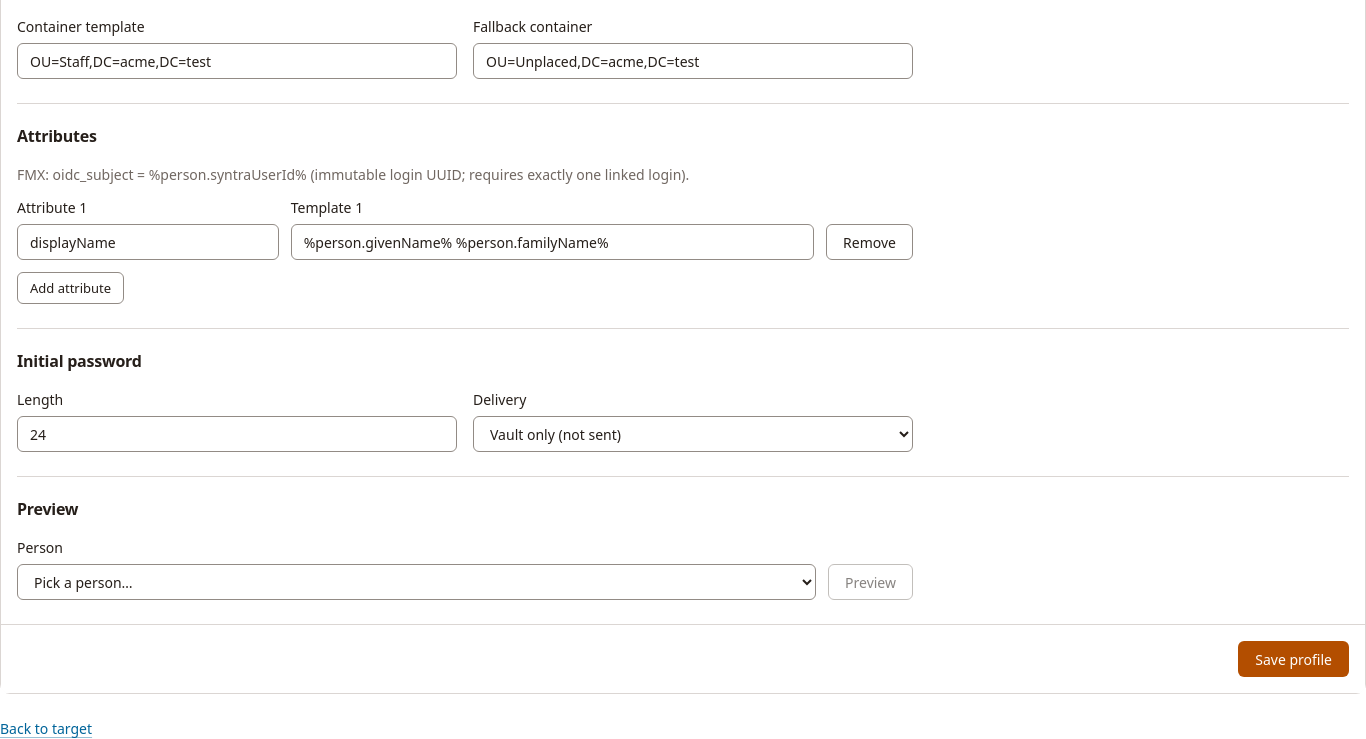
Test: AccountProfilePage › keeps the newer person preview when an older response finishes last
(page scrolled)
Select "Anna Novak" in the dropdown labelled "Person": (417, 582) [17,564,816,600]
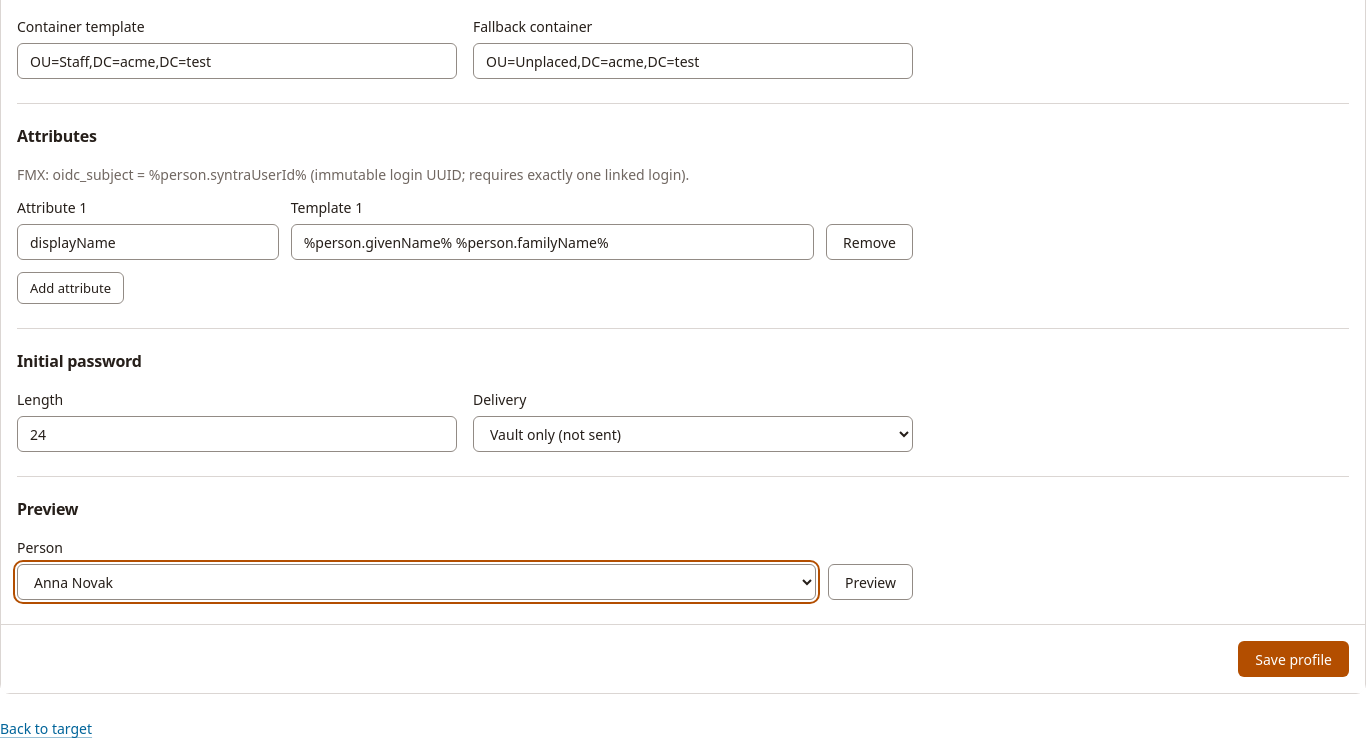
Click the button "Preview": click(871, 582) [828,564,913,600]
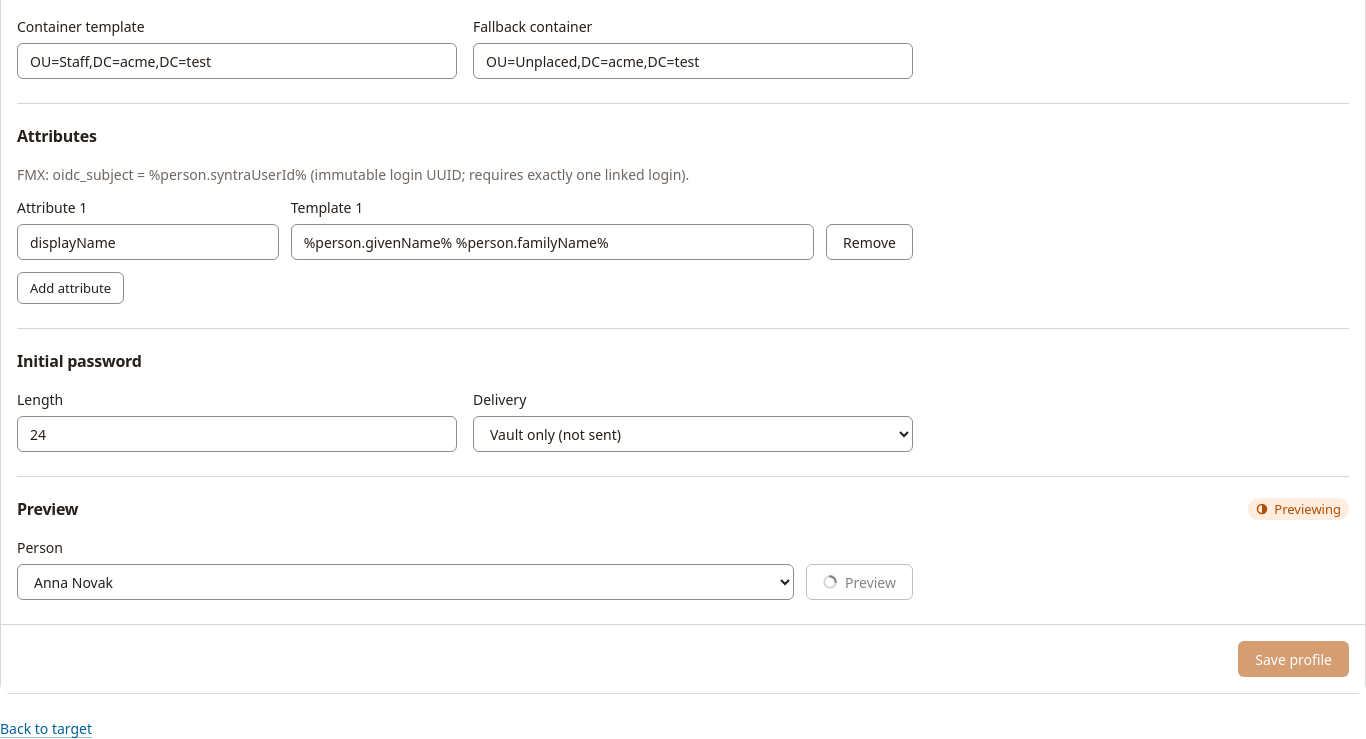
Select "Ben Smith" in the dropdown labelled "Person": (406, 582) [17,564,794,600]
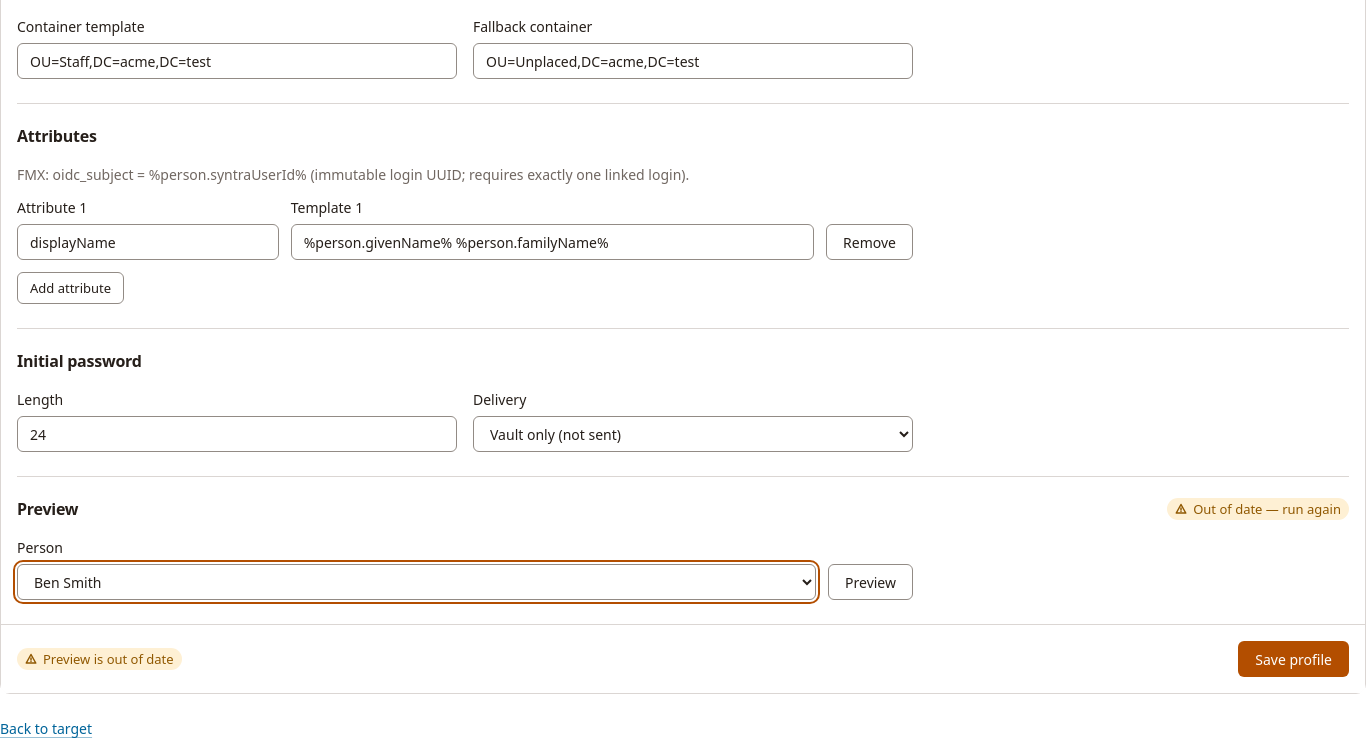
Click the button "Preview": click(871, 582) [828,564,913,600]
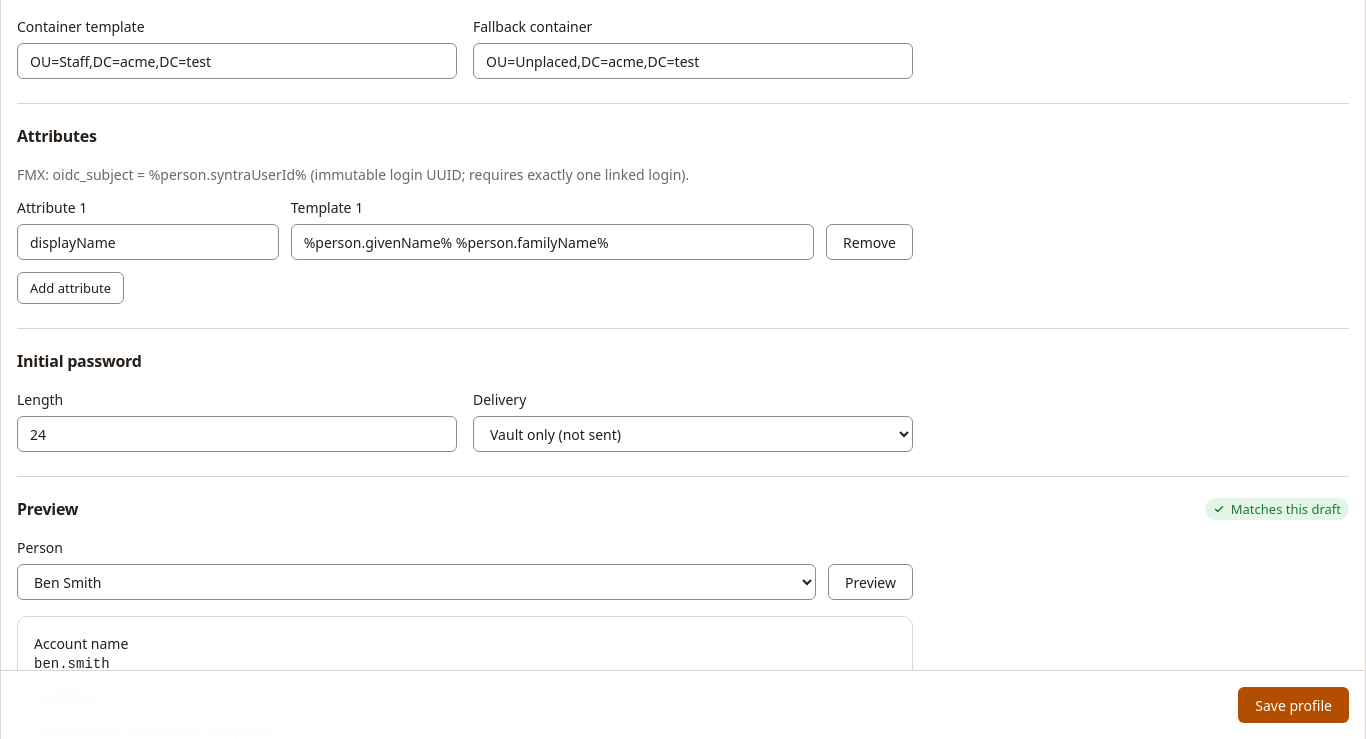
Result: the text "ben.smith" is shown at [34,656,110,672]
